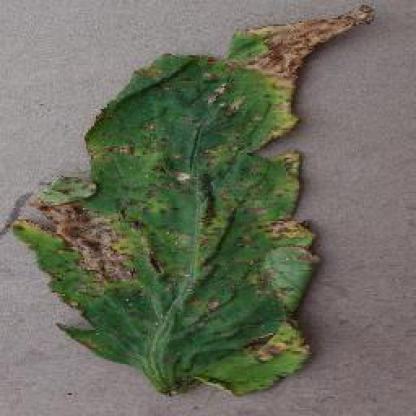bad leaf: (52, 184, 314, 321), (0, 167, 181, 312), (97, 285, 304, 393), (98, 56, 281, 178), (117, 164, 333, 243), (168, 56, 358, 117), (236, 0, 382, 68)
